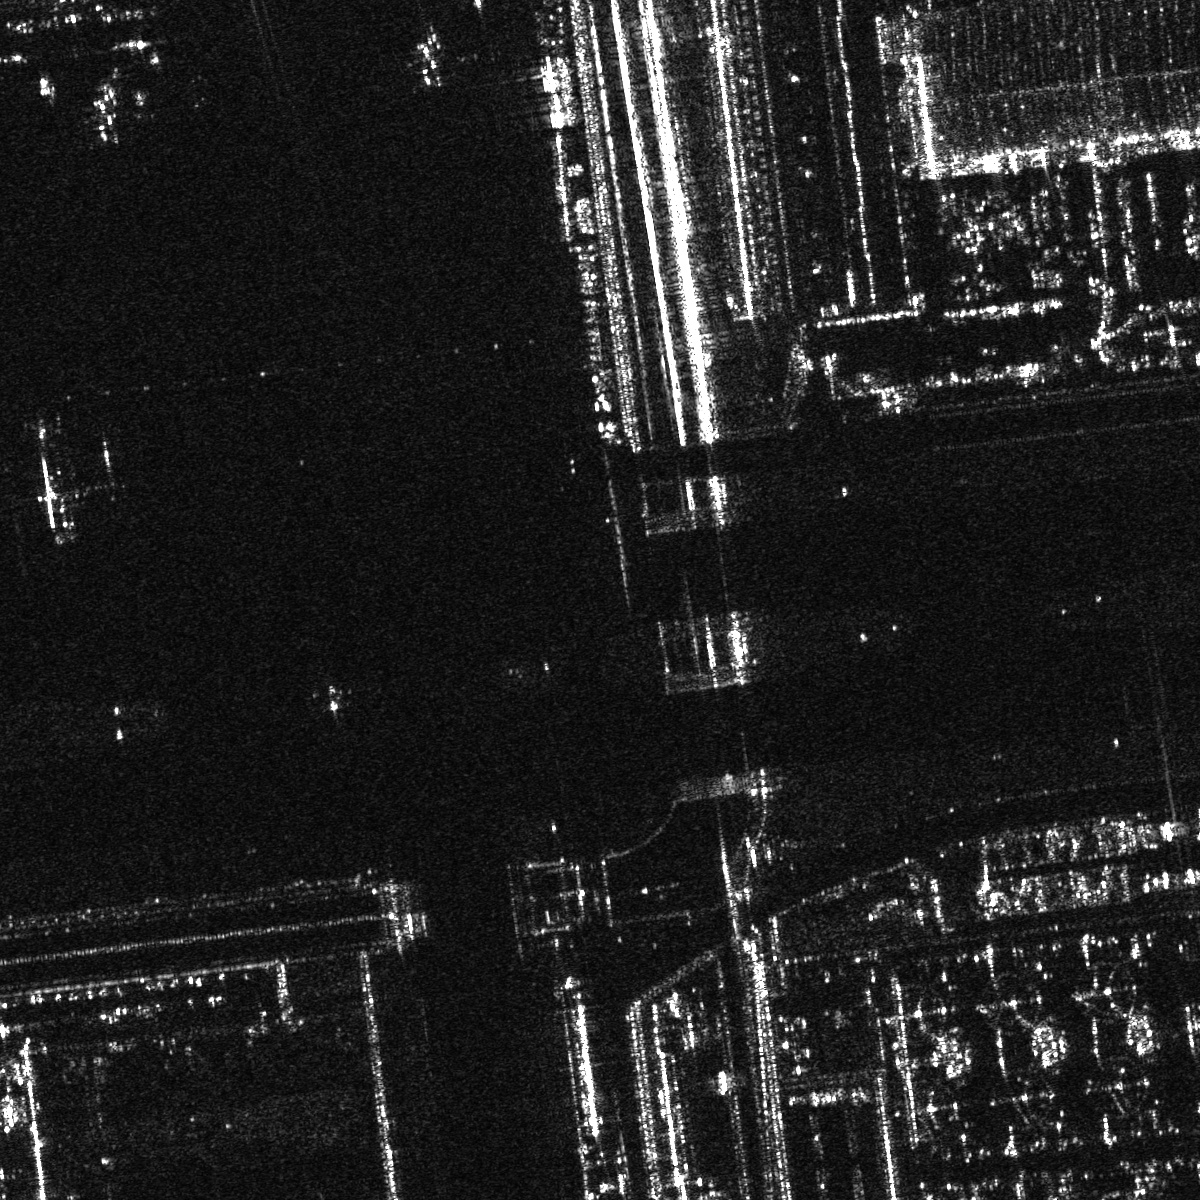A220: (65, 66, 148, 145)
A320/321: (398, 29, 464, 93)
